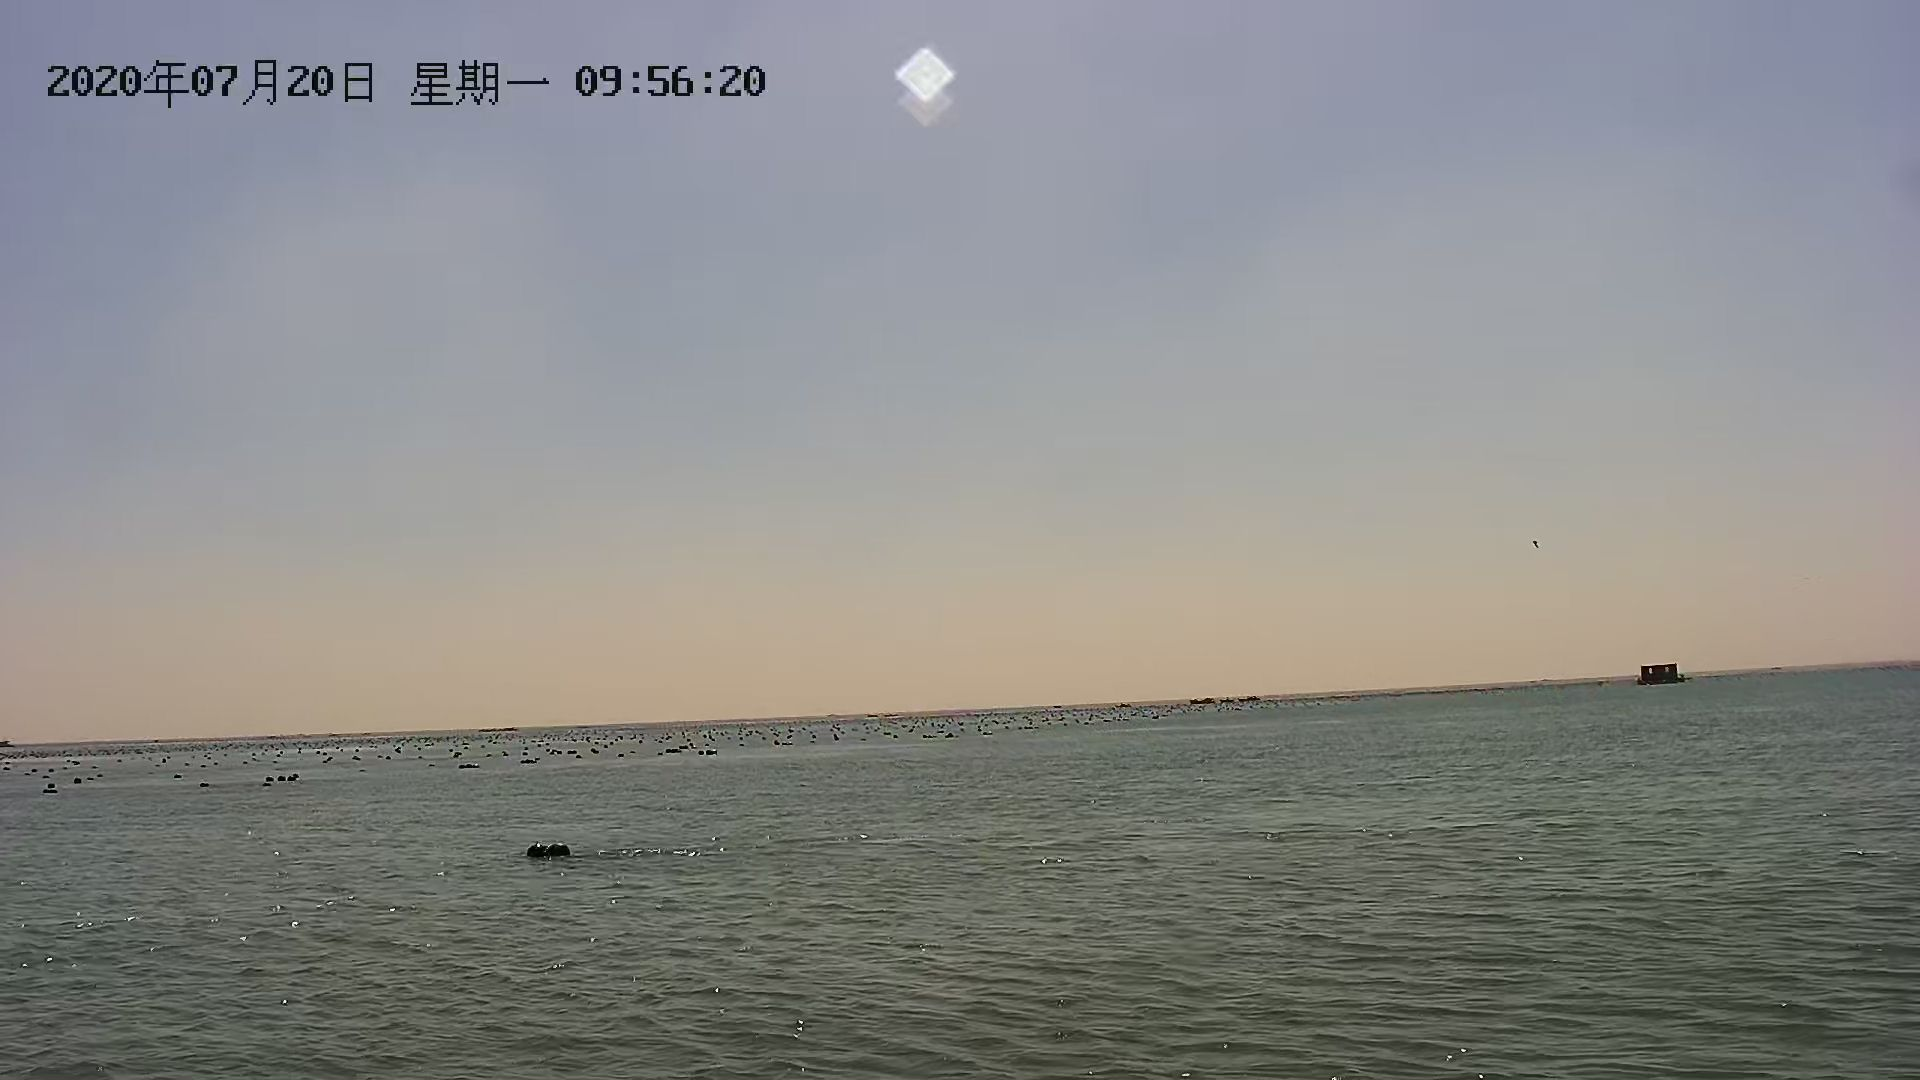ball: (542, 835, 576, 862), (526, 837, 553, 864)
platform: (1634, 665, 1688, 691)
